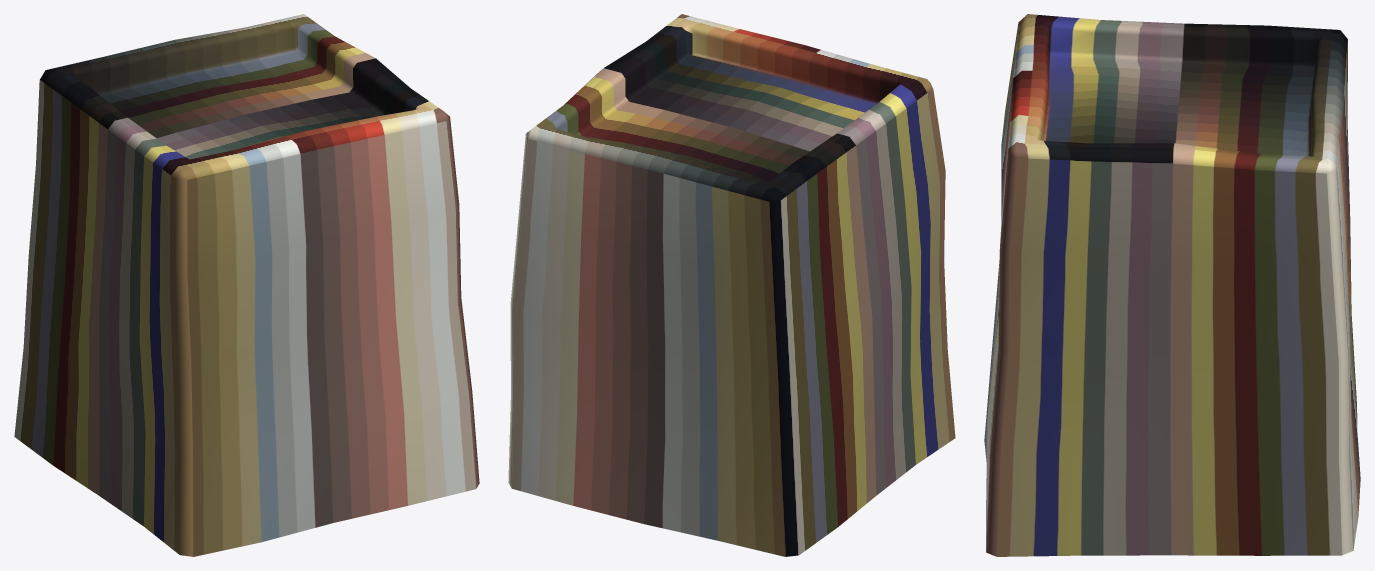
File: MSH_Building_002.glb
The picture shows the model from 3 angles, left to right: view 1: azimuth 30°, elevation 25°; view 2: azimuth 150°, elevation 25°; view 3: azimuth 270°, elevation 25°; orthographic projection. The views are drawn at different scales.
Visible parts, largest first — view 1: Base.001; view 2: Base.001; view 3: Base.001.
Boxes of the visible parts, x1=… form: Base.001: x1=14, y1=14, x2=479, y2=556; Base.001: x1=508, y1=14, x2=955, y2=556; Base.001: x1=984, y1=14, x2=1360, y2=556.
Size of the model in its own units: 5.12 by 6.06 by 5.2.
Materials: 1 (1 with a texture image).
